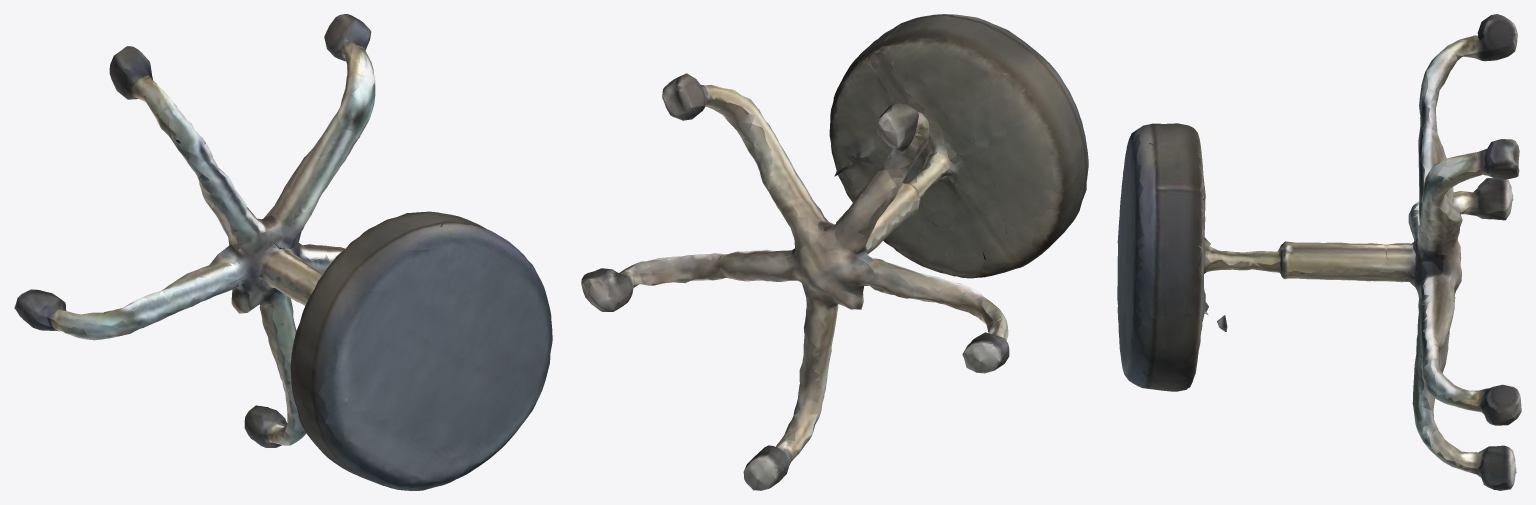
3 views of the same model, side by side, from view 1: azimuth 30°, elevation 25°; view 2: azimuth 150°, elevation 25°; view 3: azimuth 270°, elevation 25° (orthographic). The views are drawn at different scales.
Parts seen in each view (by area): view 1: world; view 2: world; view 3: world.
Part boxes in pixels (x1,y1,x2,y2): world: (14,14,552,490); world: (581,14,1088,490); world: (1117,14,1521,490).
Bounding box in the file's own units: 0.9686 × 0.9179 × 0.8268.
1 material, 1 textured.
